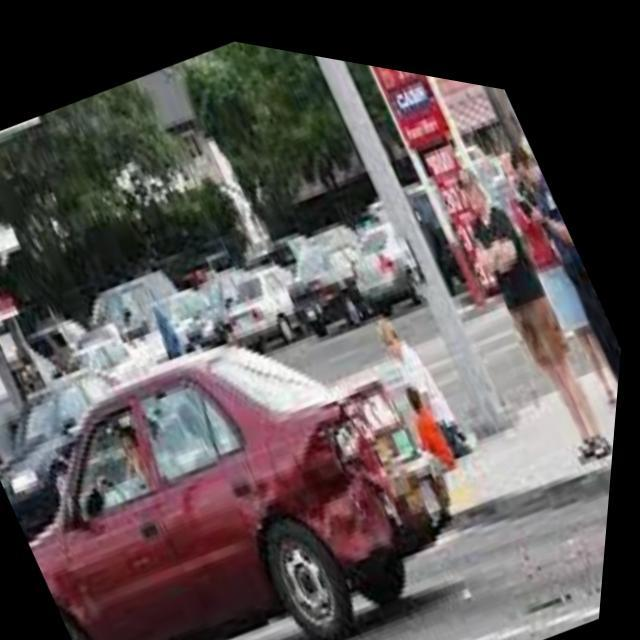dent: (294, 383, 439, 554)
